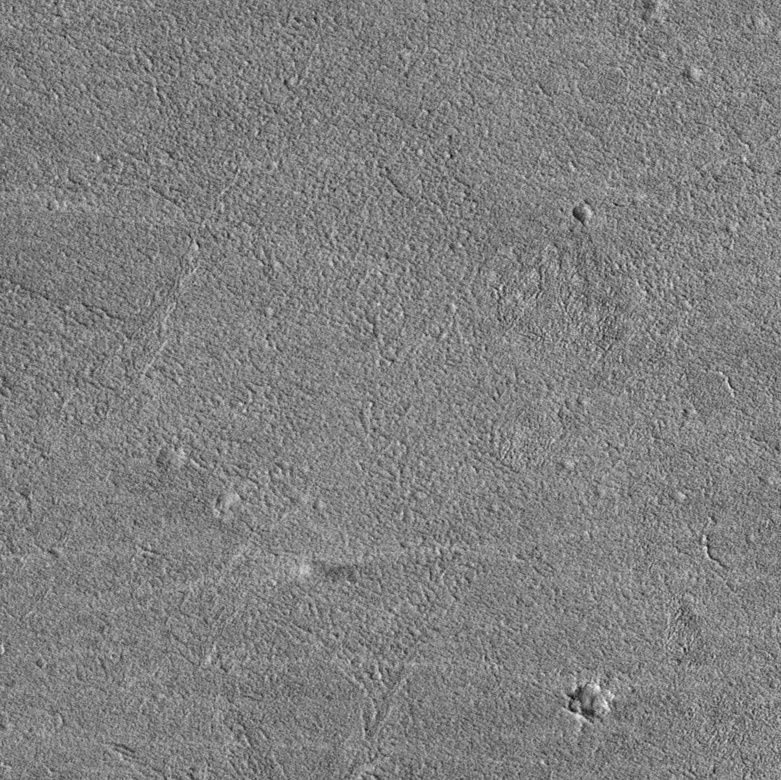dust_devil: (297, 559, 365, 585)
